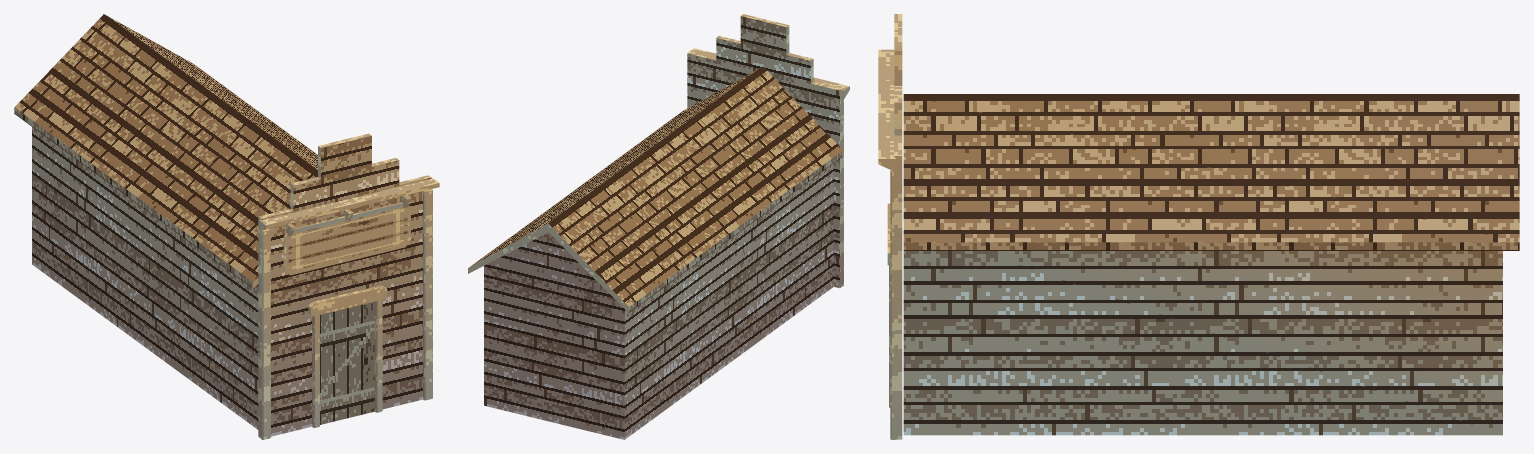
Rendered from wtown.store__narrow.glb.
3 renders of one model, left to right at view 1: azimuth 30°, elevation 25°; view 2: azimuth 150°, elevation 25°; view 3: azimuth 270°, elevation 25°, orthographic. The views are drawn at different scales.
Visible parts, largest first — view 1: kit_roof, kit_body, kit_front, kit_trim, kit_card_panes; view 2: kit_body, kit_roof, kit_front, kit_trim; view 3: kit_body, kit_roof, kit_trim, kit_front.
Boxes of the visible parts, x1=… form: kit_roof: x1=14, y1=14, x2=317, y2=288; kit_body: x1=32, y1=127, x2=258, y2=429; kit_front: x1=258, y1=133, x2=431, y2=437; kit_trim: x1=259, y1=178, x2=439, y2=439; kit_card_panes: x1=288, y1=207, x2=407, y2=424; kit_body: x1=484, y1=164, x2=833, y2=439; kit_roof: x1=468, y1=66, x2=843, y2=312; kit_front: x1=687, y1=14, x2=842, y2=288; kit_trim: x1=688, y1=48, x2=849, y2=286; kit_body: x1=903, y1=251, x2=1502, y2=435; kit_roof: x1=903, y1=94, x2=1519, y2=250; kit_trim: x1=878, y1=49, x2=895, y2=439; kit_front: x1=894, y1=14, x2=902, y2=439.
Bounding box in the file's own units: 4 × 5.9 × 9.63.
Materials: 5 (5 with a texture image).
